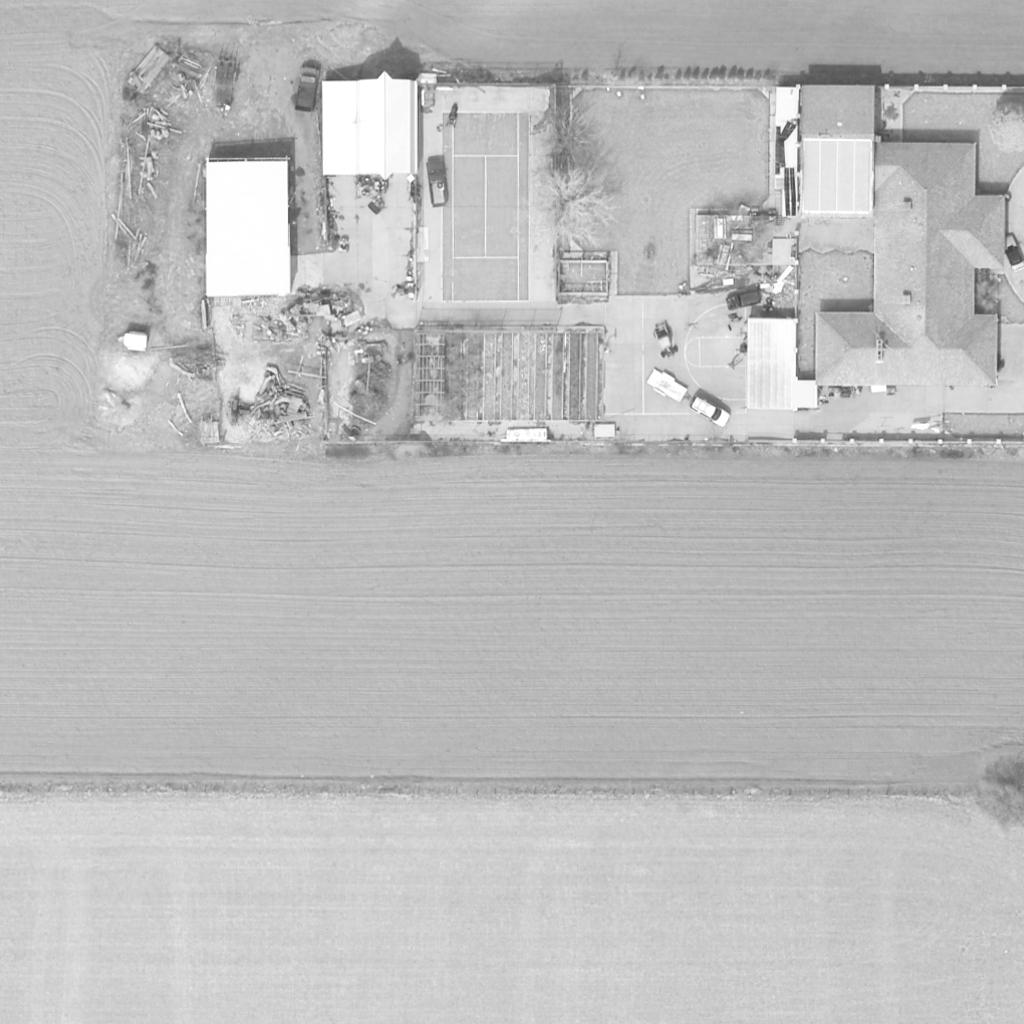vehicle: (639, 367, 693, 407), (684, 394, 734, 428), (294, 65, 322, 115), (423, 160, 449, 208), (725, 290, 763, 310), (504, 429, 552, 443)
